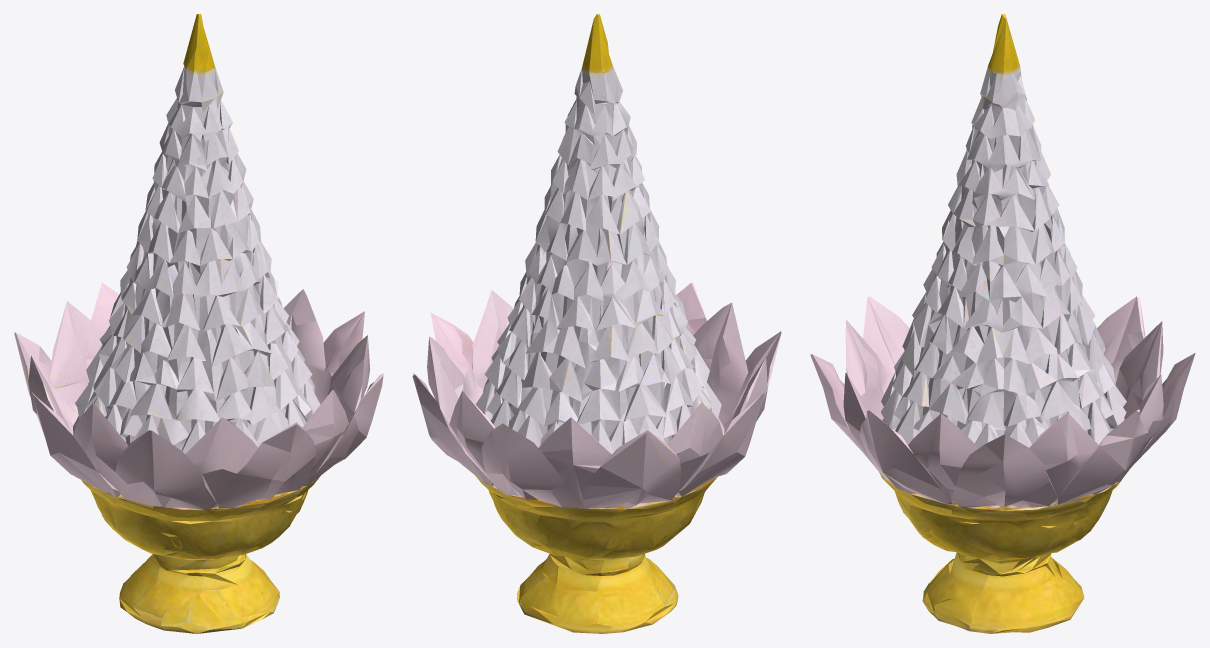
The model's file is w3hpapercone.glb.
3 views of the same model, side by side, from view 1: azimuth 30°, elevation 25°; view 2: azimuth 150°, elevation 25°; view 3: azimuth 270°, elevation 25° (orthographic).
Visible parts, largest first — view 1: output_unwrapped; view 2: output_unwrapped; view 3: output_unwrapped.
Part boxes in pixels (x1,y1,x2,y2): output_unwrapped: [14, 14, 383, 633]; output_unwrapped: [412, 14, 781, 633]; output_unwrapped: [810, 14, 1195, 633].
Bounding box in the file's own units: 0.2264 × 0.38 × 0.2267.
1 material, 1 textured.
